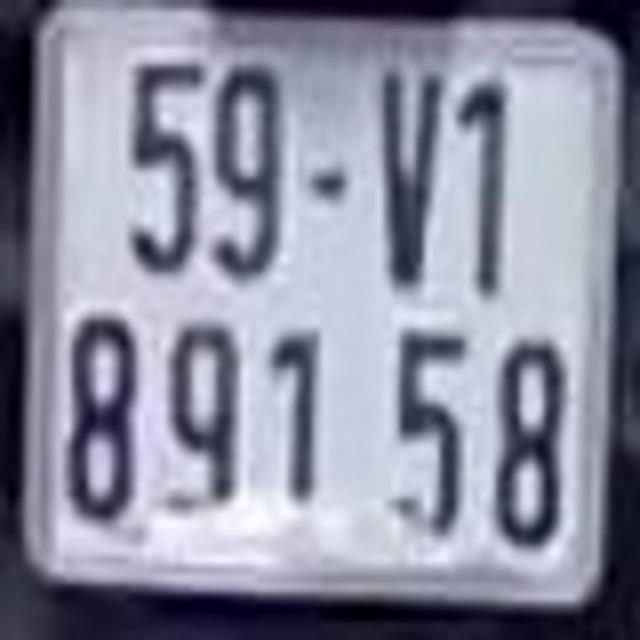1: (450, 67, 514, 295), (258, 314, 326, 521)
5: (392, 316, 468, 548), (128, 49, 204, 273)
8: (492, 323, 565, 560), (65, 302, 135, 524)
9: (211, 44, 281, 286), (164, 308, 239, 522)
V: (376, 59, 446, 282)
